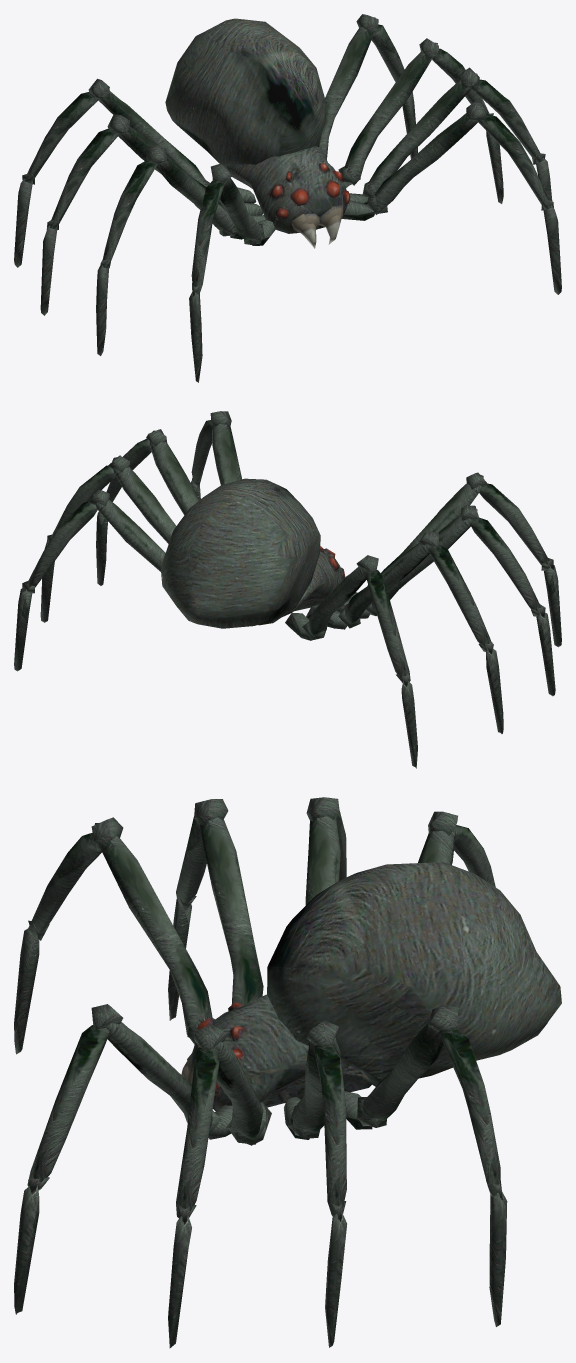
The model's file is spider.obj.
3 views of the same model, one above another, from view 1: azimuth 30°, elevation 25°; view 2: azimuth 150°, elevation 25°; view 3: azimuth 270°, elevation 25° (orthographic). The views are drawn at different scales.
Size of the model in its own units: 6.62 by 2.92 by 4.56.
2 materials, 2 textured.
